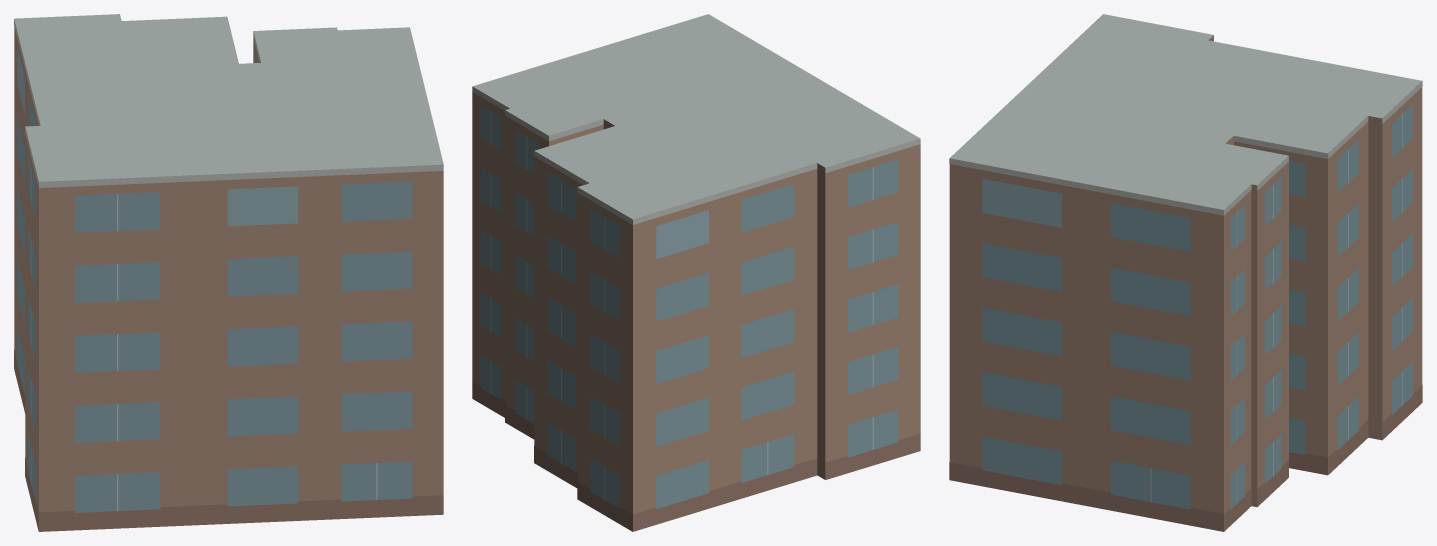
File: survey-upis-32607464.glb
3 views of the same model, side by side, from view 1: azimuth 30°, elevation 25°; view 2: azimuth 150°, elevation 25°; view 3: azimuth 270°, elevation 25° (orthographic). The views are drawn at different scales.
Visible parts, largest first — view 1: survey-upis-32607464.tmp; view 2: survey-upis-32607464.tmp; view 3: survey-upis-32607464.tmp.
Part boxes in pixels (x1=…): survey-upis-32607464.tmp: x1=14, y1=14, x2=443, y2=531; survey-upis-32607464.tmp: x1=472, y1=14, x2=920, y2=531; survey-upis-32607464.tmp: x1=949, y1=14, x2=1422, y2=531.
Size of the model in its own units: 18.03 by 13.8 by 18.39.
